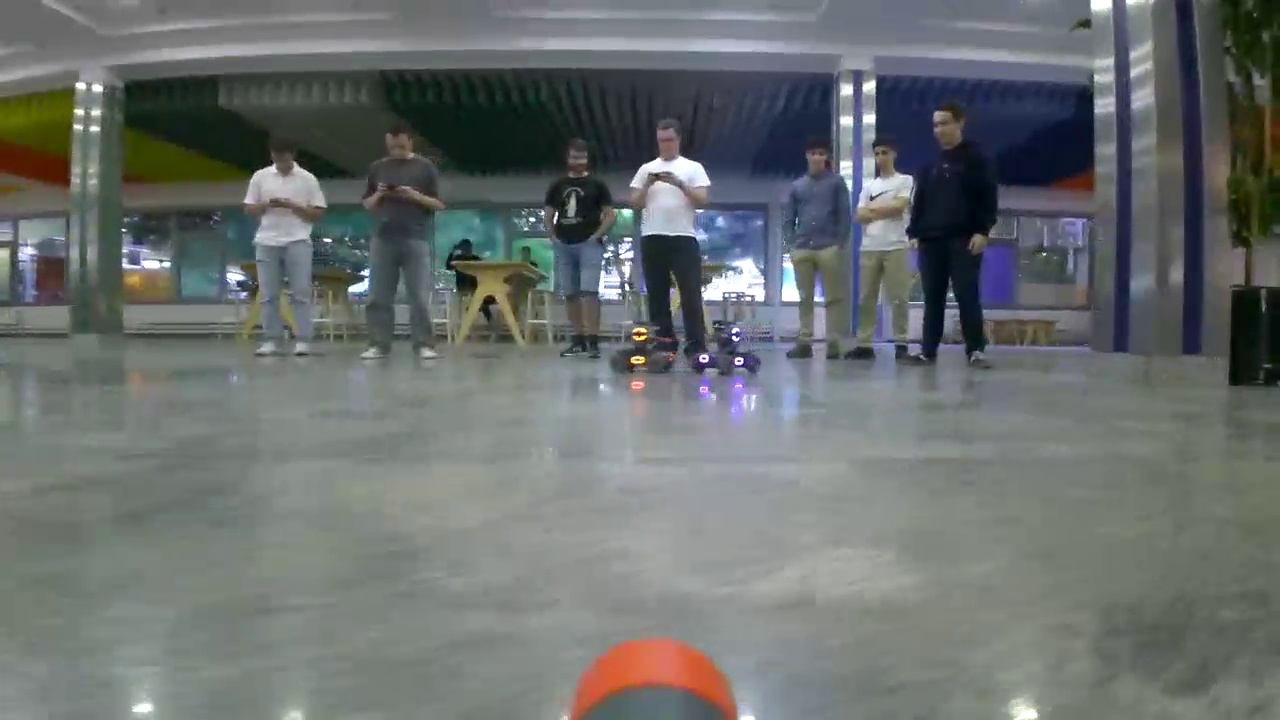robot: (610, 325, 680, 372), (691, 324, 760, 371)
